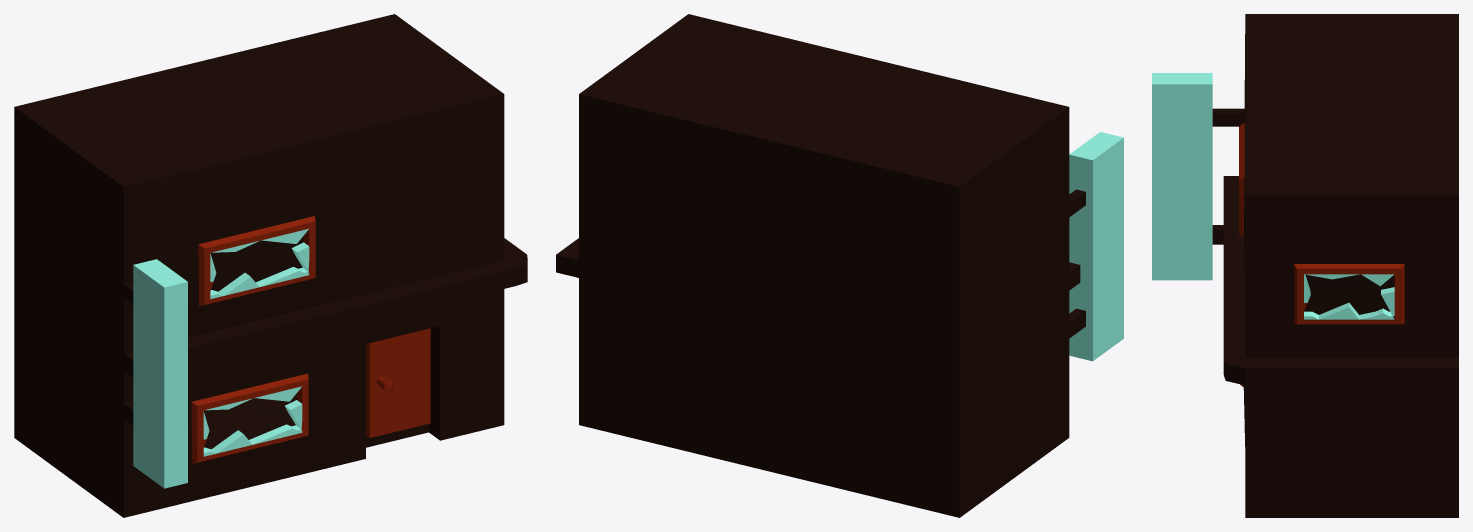
The model's file is myhome@out_close.FBX.
3 views of the same model, side by side, from view 1: azimuth 30°, elevation 25°; view 2: azimuth 150°, elevation 25°; view 3: azimuth 270°, elevation 25° (orthographic). The views are drawn at different scales.
Visible parts, largest first — view 1: Box001, Object001, Object002; view 2: Object002, Box001; view 3: Box001, Object002.
Boxes of the visible parts, x1,y1,x2,y2 form: Box001: [17, 16, 527, 517]; Object001: [366, 328, 430, 437]; Object002: [14, 14, 396, 439]; Object002: [556, 92, 962, 517]; Box001: [559, 14, 1123, 515]; Box001: [1152, 14, 1453, 517]; Object002: [1453, 14, 1458, 517].
Size of the model in its own units: 83.97 by 64.66 by 55.67.
